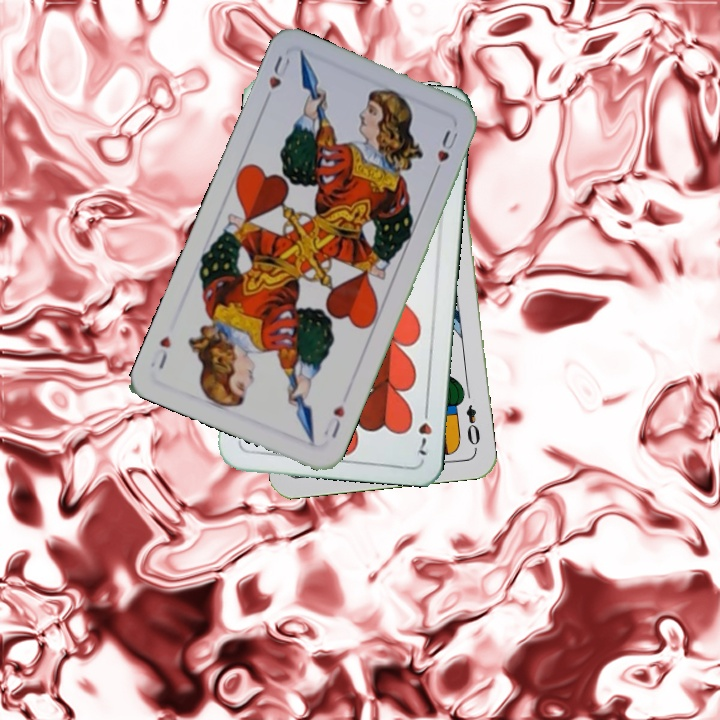EO: (462, 401, 483, 448)
H7: (414, 401, 435, 459)
HU: (260, 50, 293, 107), (320, 401, 347, 442)
